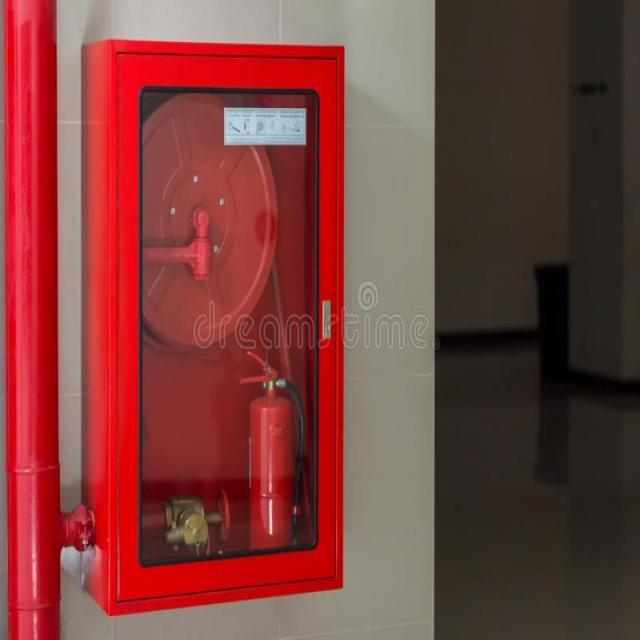fire_extinguisher: (234, 341, 311, 572)
